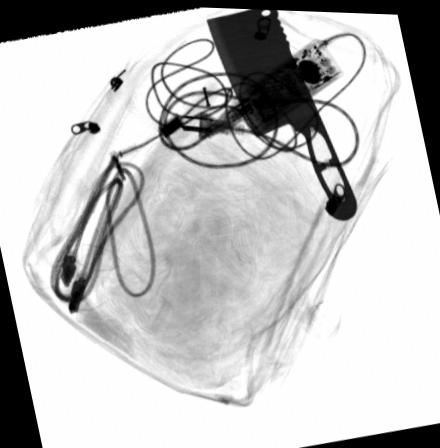Knife: (205, 7, 357, 219)
